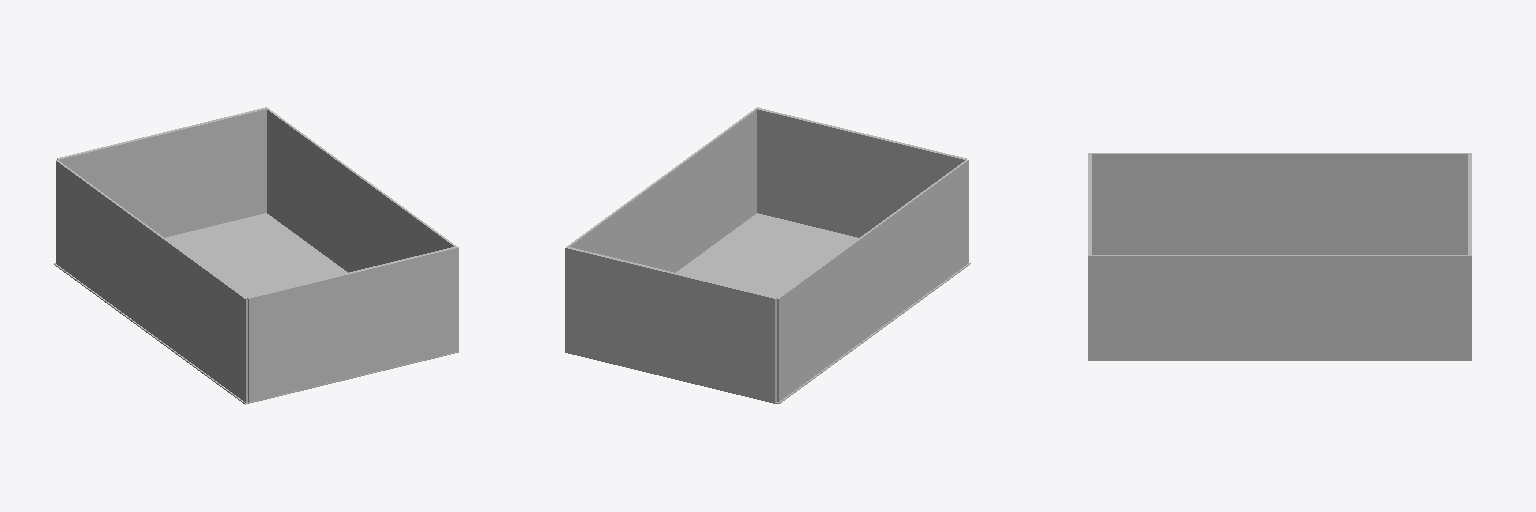
File: houseWalls.obj
The picture shows the model from 3 angles: view 1: azimuth 30°, elevation 25°; view 2: azimuth 150°, elevation 25°; view 3: azimuth 270°, elevation 25°; orthographic projection.
Parts seen in each view (by area): view 1: _4, _1, _3, default, _2; view 2: _3, _1, _4, default, _2; view 3: default, _1.
Boxes of the visible parts, <box> form: _4: <box>247,247,456,402</box>; _1: <box>56,160,247,402</box>; _3: <box>57,107,266,237</box>; default: <box>266,108,458,352</box>; _2: <box>54,213,456,404</box>; _3: <box>565,247,776,403</box>; _1: <box>777,160,968,401</box>; _4: <box>756,108,966,237</box>; default: <box>566,107,758,272</box>; _2: <box>676,213,970,403</box>; default: <box>1088,255,1470,360</box>; _1: <box>1092,153,1467,254</box>.
Bounding box in the file's own units: 71.02 × 33.32 × 111.